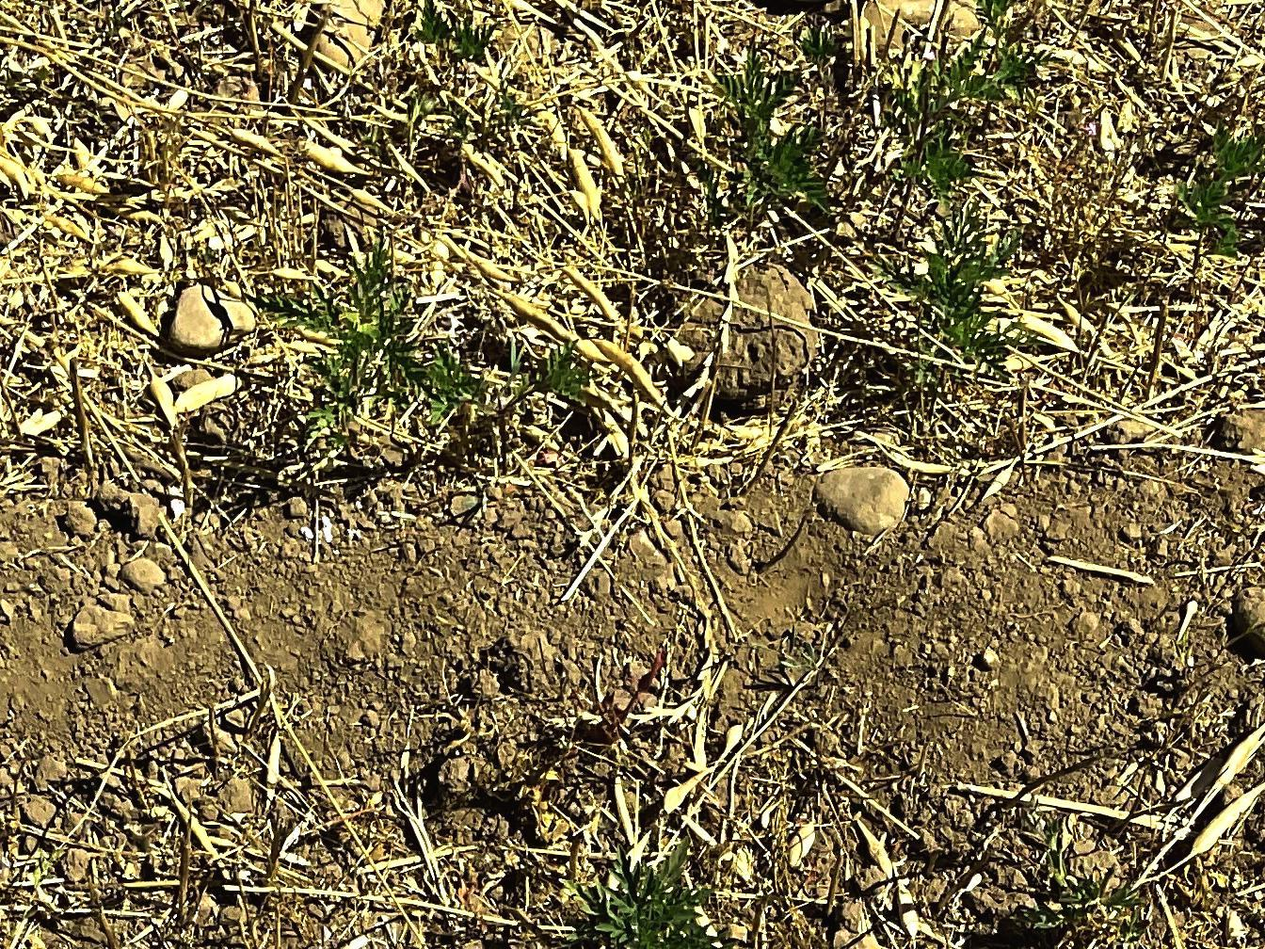AMBEL: (422, 342, 592, 473), (717, 56, 825, 224), (894, 43, 1004, 187), (919, 211, 1004, 367), (579, 857, 717, 936), (313, 271, 402, 388)
